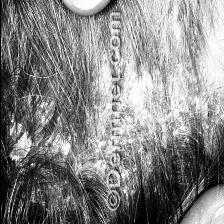Non-Cancerous Skin Condition: (124, 30, 210, 182), (0, 94, 90, 197)
